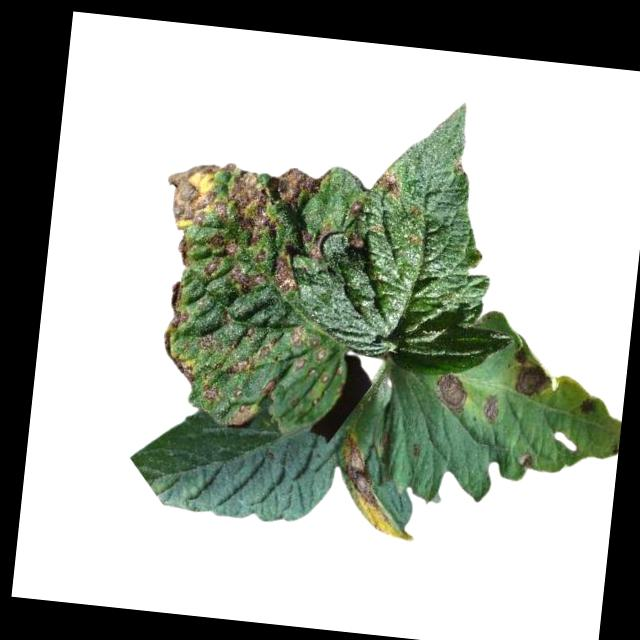Early_blight: (141, 155, 371, 438), (332, 431, 424, 545), (509, 350, 557, 399), (434, 370, 472, 414), (481, 390, 507, 424), (379, 170, 402, 196), (515, 452, 539, 475), (346, 233, 369, 254), (579, 398, 598, 419)
